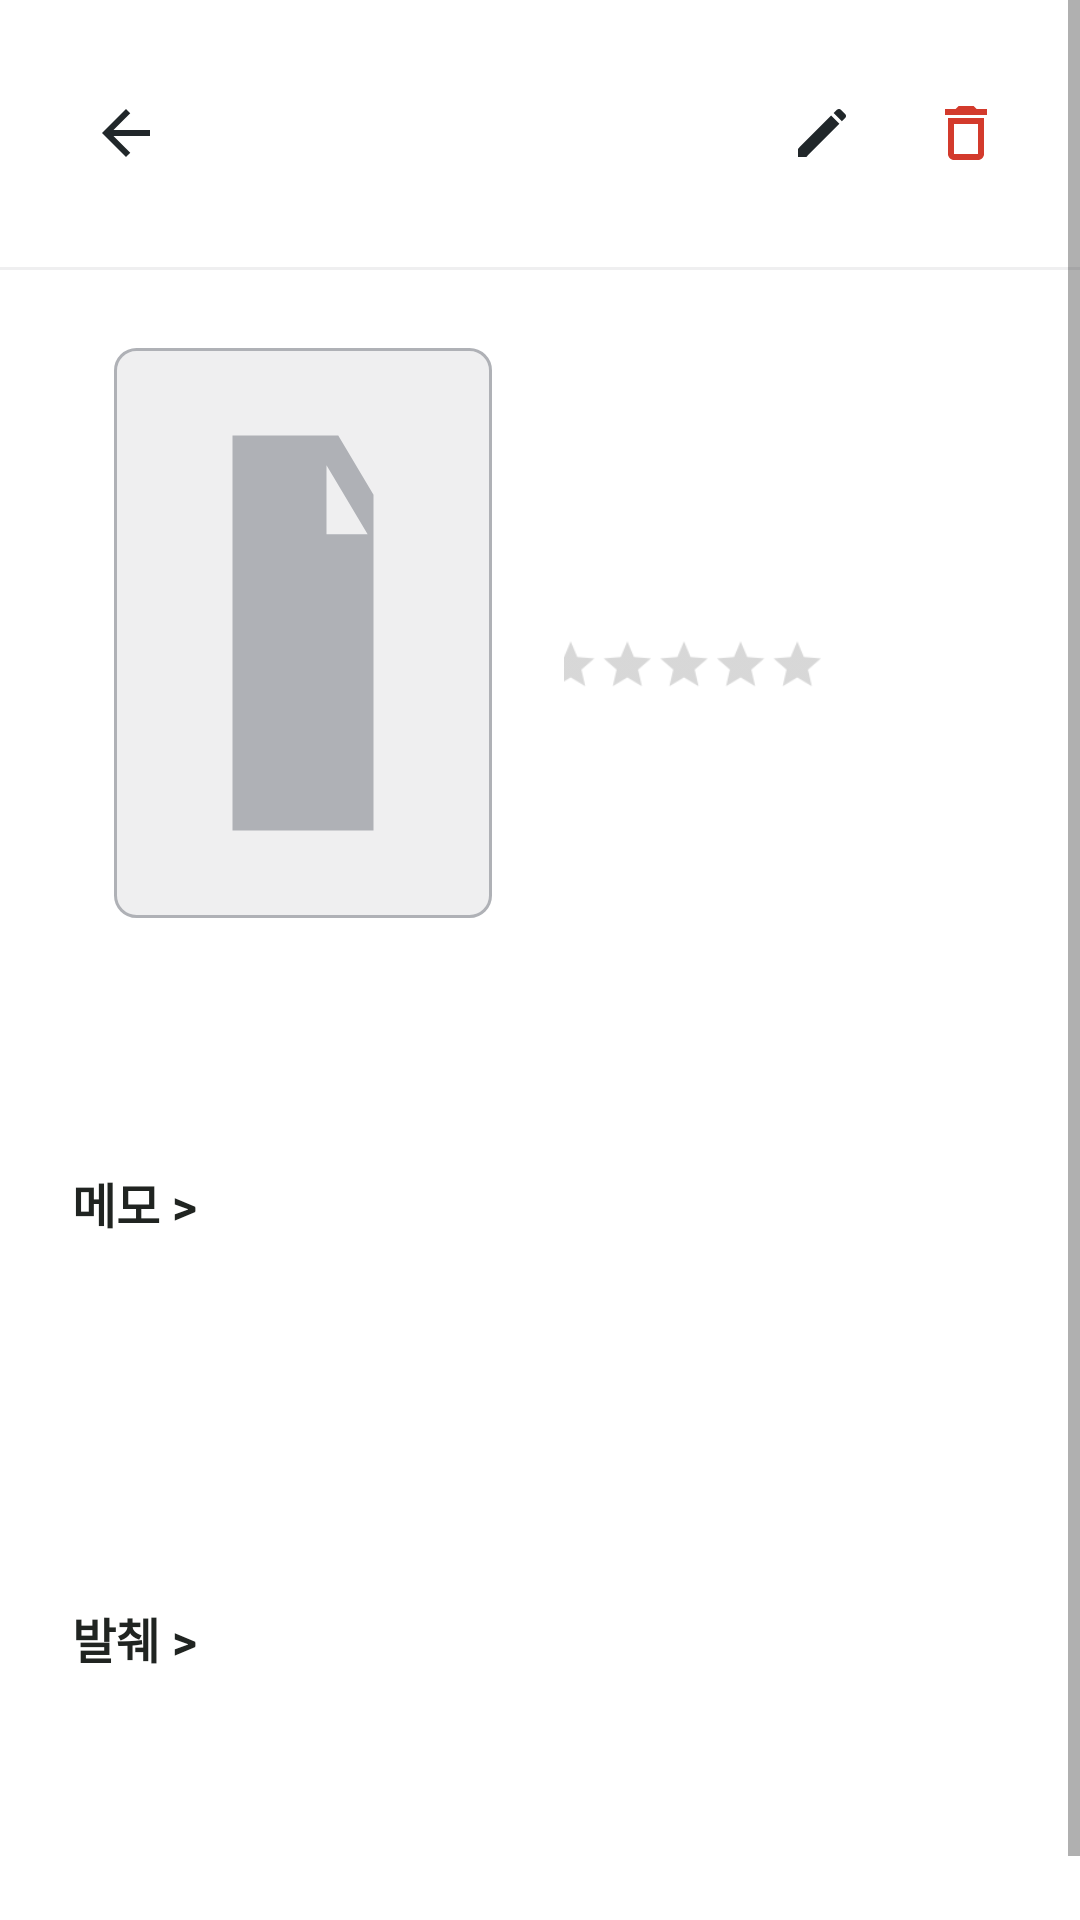

Named icons in this screenshot (1080 x 1920) and their centers, point (x, y):
arrow back: point (126, 133)
책 삭제: point (966, 133)
책 수정: point (822, 133)
